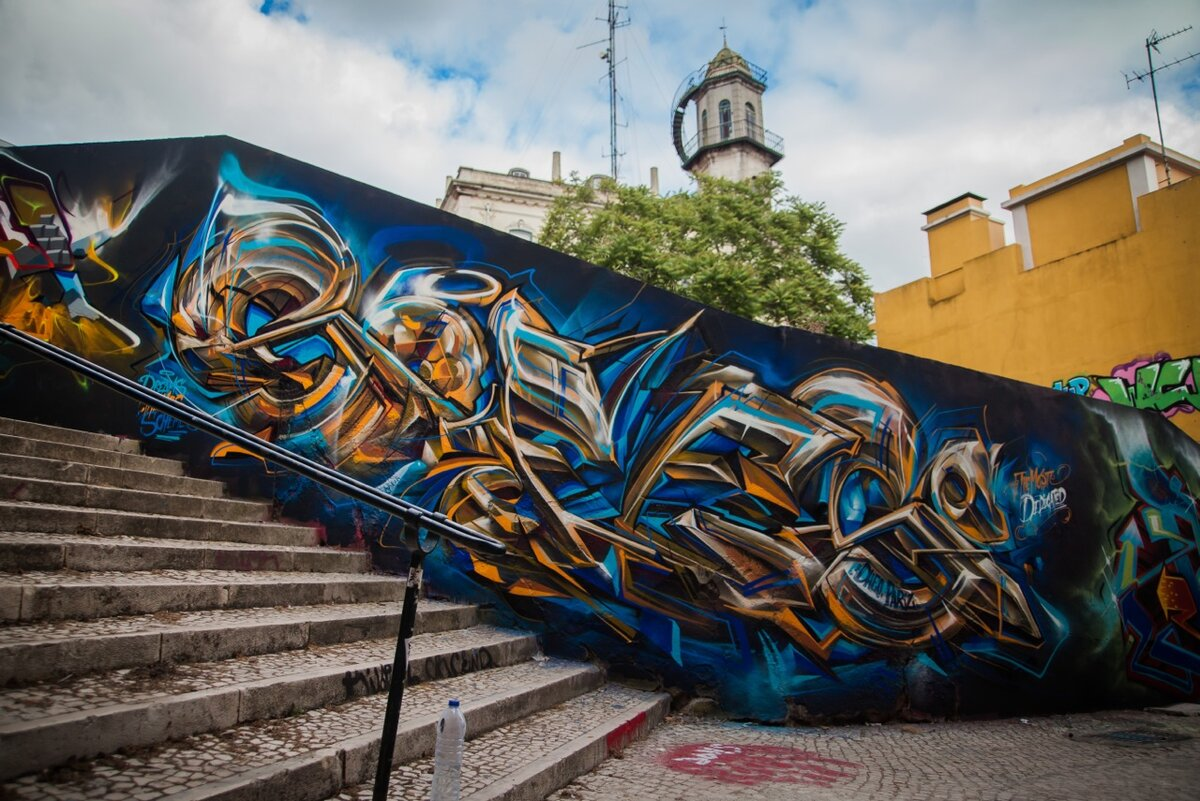graphite: (623, 375, 1200, 711), (190, 200, 612, 597), (1, 163, 135, 425), (1065, 360, 1200, 420), (136, 357, 192, 443), (1012, 465, 1075, 525)
